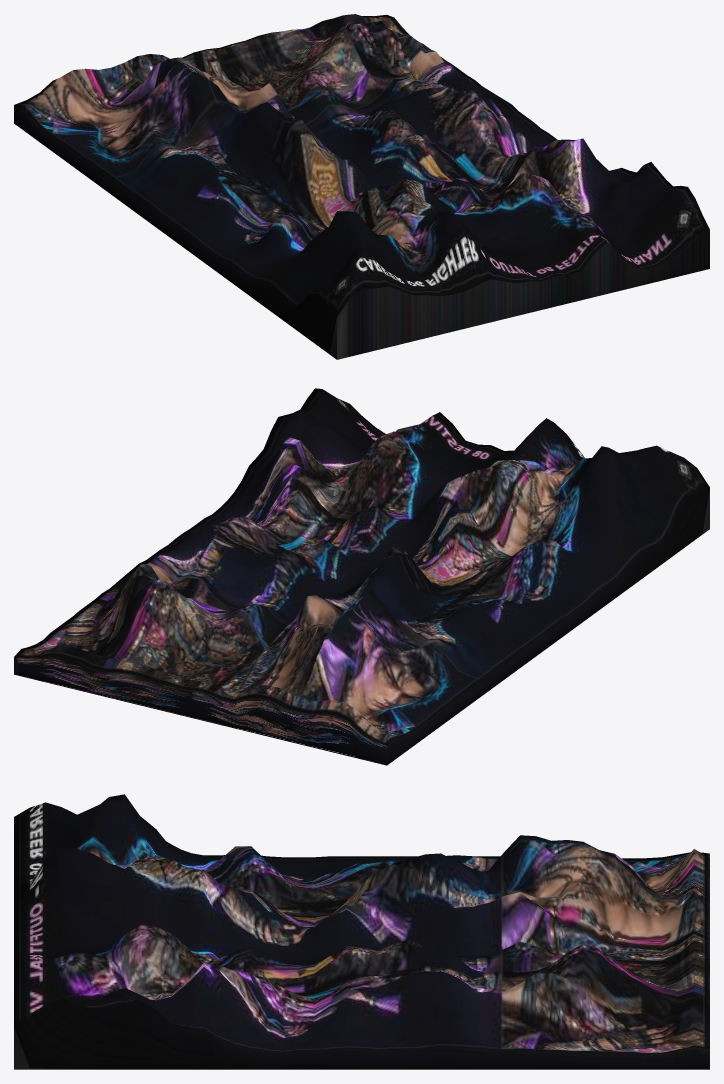
File: CAREER_06_Outfit_08_Festival.glb
3 views of the same model, one above another, from view 1: azimuth 30°, elevation 25°; view 2: azimuth 150°, elevation 25°; view 3: azimuth 270°, elevation 25° (orthographic). The views are drawn at different scales.
Visible parts, largest first — view 1: CAREER_06_Outfit_08_Festival; view 2: CAREER_06_Outfit_08_Festival; view 3: CAREER_06_Outfit_08_Festival.
Part boxes in pixels (left/top/right/bottom): CAREER_06_Outfit_08_Festival: left=14, top=14, right=709, bottom=359; CAREER_06_Outfit_08_Festival: left=14, top=388, right=709, bottom=765; CAREER_06_Outfit_08_Festival: left=14, top=794, right=709, bottom=1069.
Bounding box in the file's own units: 2 × 0.51 × 3.
Materials: 1 (1 with a texture image).
